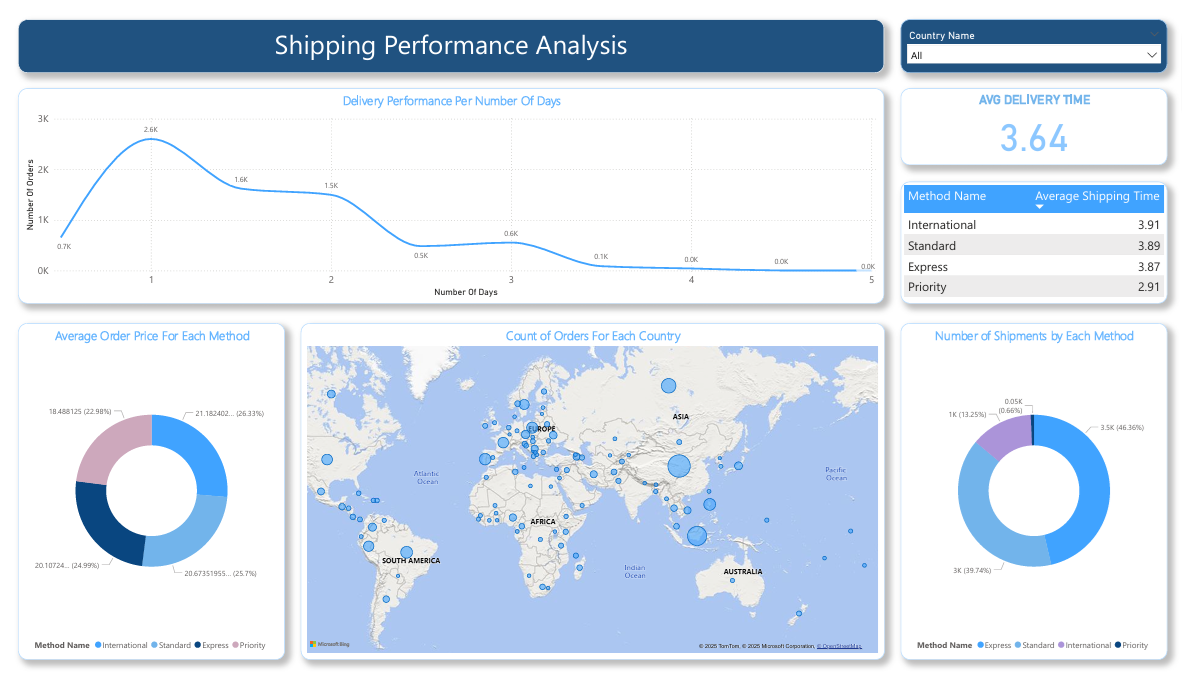

Layout of this report page (visuals, bound fields, positions):
{"tool":"powerbi","page":{"name":"Shipping Methods","canvas":[1920,1080],"ordinal":4},"visuals":[{"type":"tableEx","fields":{"Values":["ShippingAverageTimes.Method","Sum(ShippingAverageTimes.AverageTime)"]},"box":[1460,277.1,437.1,200],"z":0},{"type":"textbox","box":[14.3,11.4,1418.6,87.1],"z":1000},{"type":"donutChart","title":"Number of Shipments by Each Method","fields":{"Y":["CountNonNull(DistinctOrdersWithShipping.shipping_method_fk)"],"Category":["DistinctOrdersWithShipping.method_name"]},"box":[1460,508.6,437.1,552.9],"z":2000},{"type":"lineClusteredColumnComboChart","title":"Delivery Performance Per Number Of Days","fields":{"Category":["Shipping_Average_Time.Rounded_Time"],"Y2":["CountNonNull(Shipping_Average_Time.average_time)"]},"box":[14.3,124.3,1418.6,352.9],"z":3000},{"type":"donutChart","title":"Average Order Price For Each Method","fields":{"Category":["Dim_shipping_methods.method_name"],"Y":["Fact_sales.Average Order Value"]},"box":[14.3,508.6,437.1,552.9],"z":4000},{"type":"card","title":"AVG DELIVERY TIME","fields":{"Values":["Avg(ShippingAverageTimes.AverageTime)"]},"box":[1460,124.3,437.1,125.7],"z":5000},{"type":"map","title":"Count of Orders For Each Country","fields":{"Category":["Dim_Addresses.country_name"],"Size":["CountNonNull(Fact_sales.dest_id_fk)"]},"box":[477.1,508.6,957.1,552.9],"z":6000},{"type":"slicer","fields":{"Values":["Dim_Addresses.country_name"]},"box":[1460,11.4,437.1,87.1],"z":7000}]}

Visuals, with their boxes in screenshot pixels (x1, y1, x2, y2), scaled from the page's 1920x1080 canvas onto the 1190x680 screenshot:
tableEx - ShippingAverageTimes.Method x Sum(ShippingAverageTimes.AverageTime): <region>905, 174, 1176, 300</region>
textbox: <region>9, 7, 888, 62</region>
"Number of Shipments by Each Method" donutChart: <region>905, 320, 1176, 668</region>
"Delivery Performance Per Number Of Days" lineClusteredColumnComboChart: <region>9, 78, 888, 300</region>
"Average Order Price For Each Method" donutChart: <region>9, 320, 280, 668</region>
"AVG DELIVERY TIME" card: <region>905, 78, 1176, 157</region>
"Count of Orders For Each Country" map: <region>296, 320, 889, 668</region>
slicer - Dim_Addresses.country_name: <region>905, 7, 1176, 62</region>
